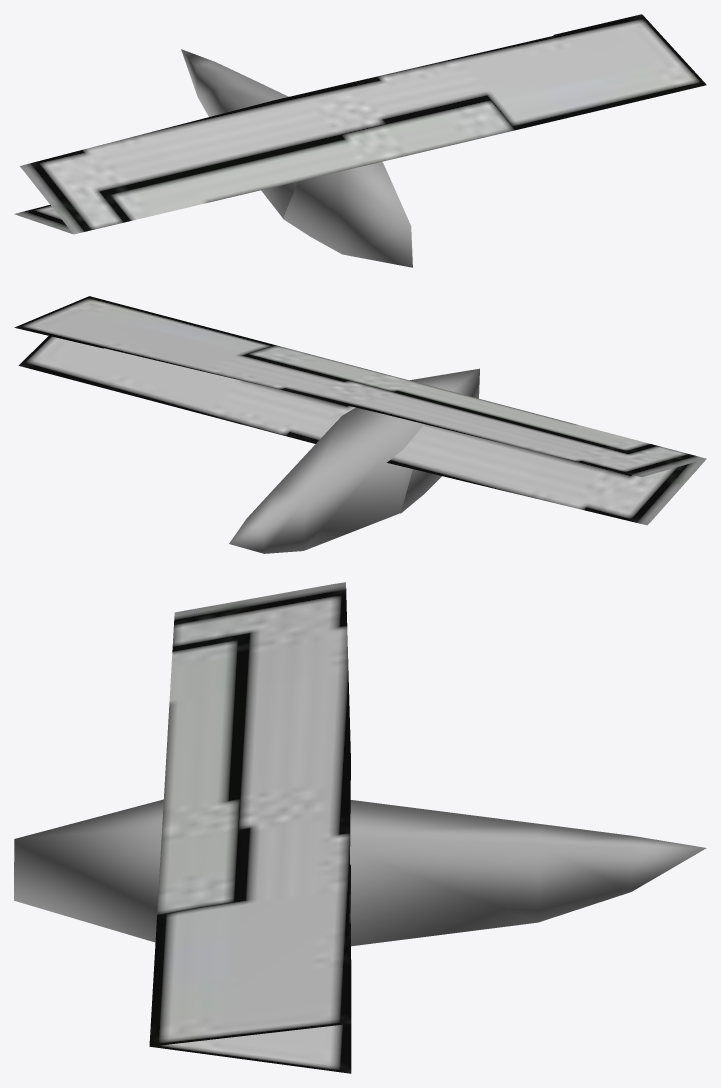
The model's file is rightInnerFlaps.dae.
The picture shows the model from 3 angles, top to bottom: view 1: azimuth 30°, elevation 25°; view 2: azimuth 150°, elevation 25°; view 3: azimuth 270°, elevation 25°; orthographic projection. The views are drawn at different scales.
Visible parts, largest first — view 1: SketchUp (×3); view 2: SketchUp (×4); view 3: SketchUp (×3).
Part boxes in pixels (bbox=[...]): SketchUp (×3): bbox=[19, 14, 706, 267]; SketchUp (×4): bbox=[14, 296, 706, 553]; SketchUp (×3): bbox=[14, 582, 706, 1073].
Bounding box in the file's own units: 147 × 97.13 × 24.07.
Materials: 2 (1 with a texture image).
